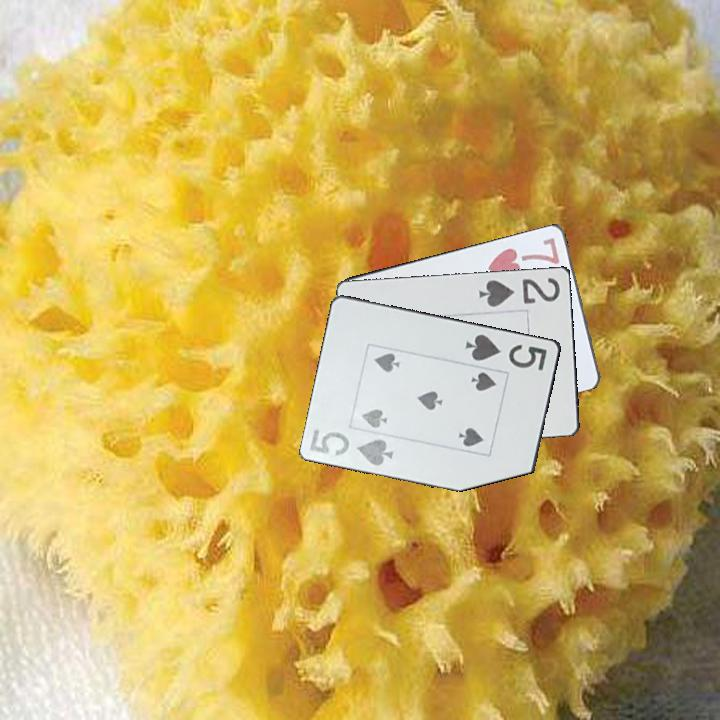2s: (475, 273, 563, 309)
5s: (306, 426, 397, 469), (462, 330, 550, 374)
7h: (484, 234, 563, 279)
